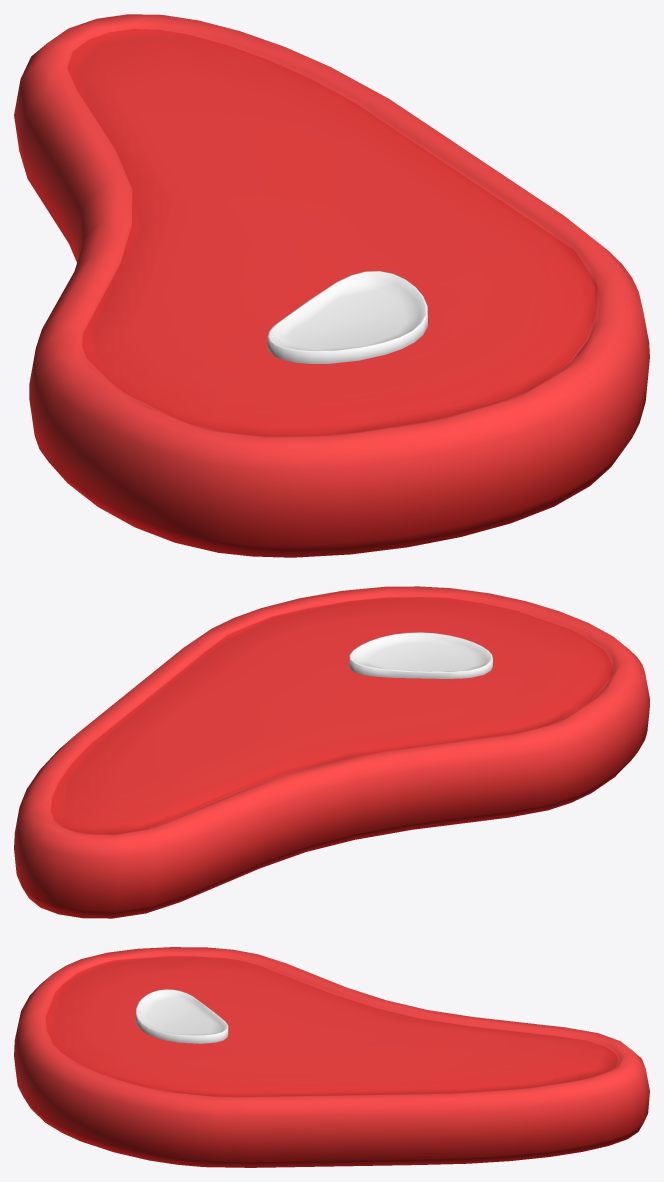
The model's file is steak.fbx.
3 views of the same model, one above another, from view 1: azimuth 30°, elevation 25°; view 2: azimuth 150°, elevation 25°; view 3: azimuth 270°, elevation 25° (orthographic). The views are drawn at different scales.
Visible parts, largest first — view 1: steak; view 2: steak; view 3: steak.
Part boxes in pixels (x1=…): steak: x1=14, y1=14, x2=649, y2=557; steak: x1=14, y1=586, x2=649, y2=918; steak: x1=14, y1=947, x2=649, y2=1167.
Bounding box in the file's own units: 86.86 × 18.37 × 139.
